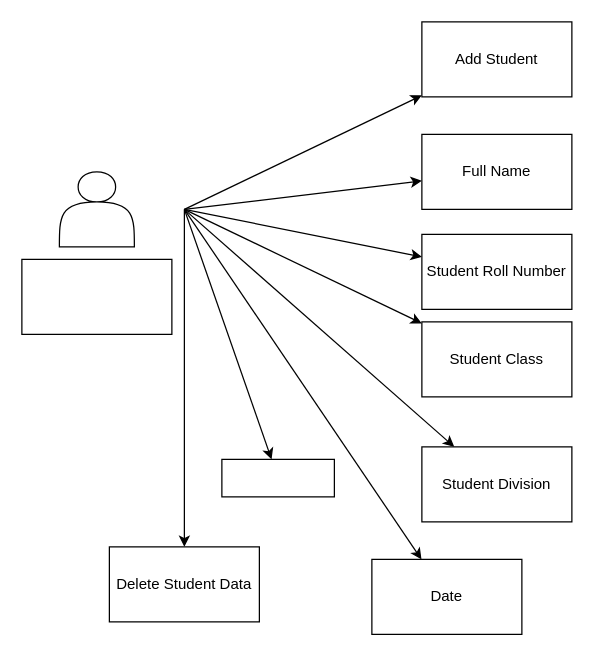
The diagram is 594 pixels wide and 656 high, and some of its shapes have lost their labels. The centre of each missing label's shape, as x and y in pixels:
Edit: (277,477)
User: (96,296)
